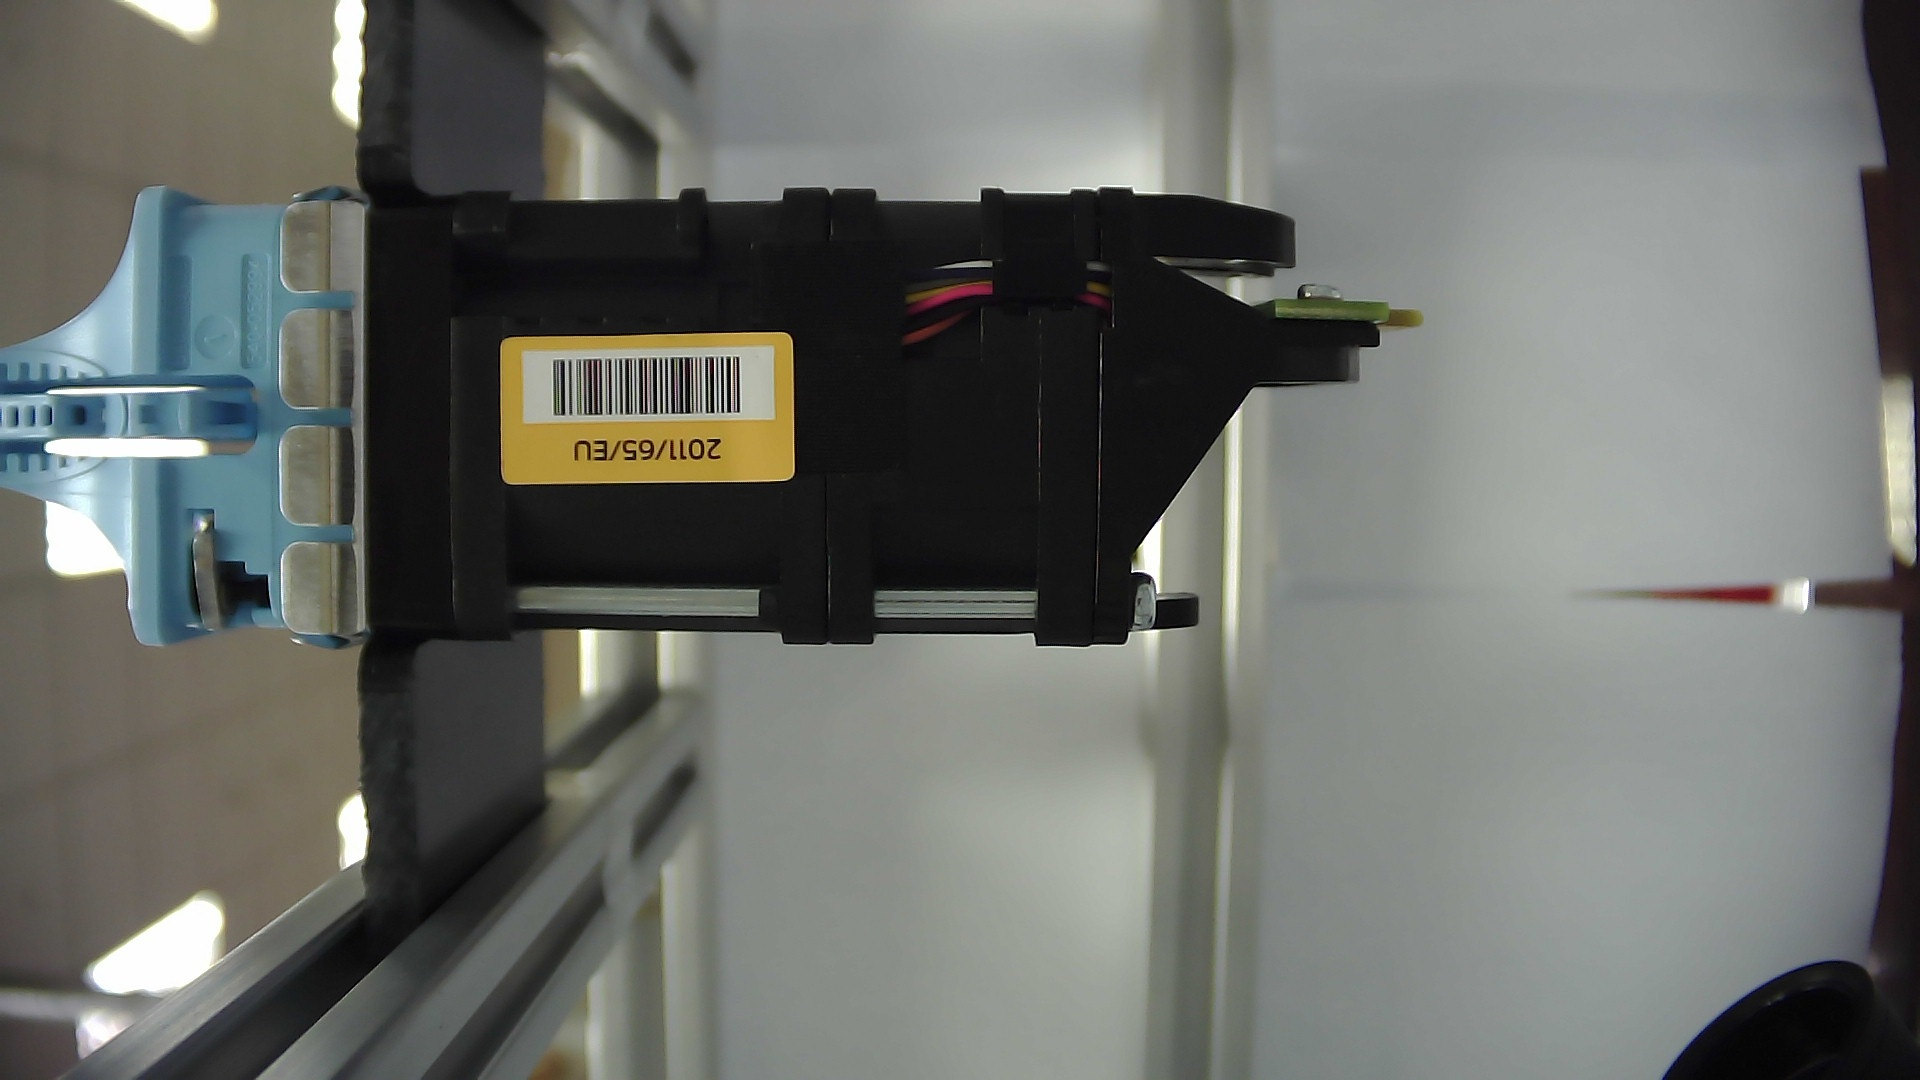6_0: (243, 164, 1451, 678)
